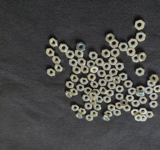nut: (135, 19, 146, 31), (137, 31, 147, 42), (119, 41, 129, 52), (129, 38, 139, 48), (150, 74, 160, 84), (136, 67, 145, 77), (102, 48, 111, 58), (110, 39, 119, 49), (49, 38, 58, 48), (77, 42, 86, 52), (66, 50, 76, 59), (89, 51, 99, 60), (72, 66, 82, 75), (149, 92, 159, 101), (144, 86, 154, 95), (108, 81, 117, 91), (87, 73, 97, 82), (115, 101, 125, 110), (80, 76, 89, 86), (116, 62, 125, 71), (127, 47, 136, 56), (60, 43, 69, 52), (46, 48, 55, 57), (75, 49, 84, 58), (77, 57, 86, 66), (81, 65, 90, 74), (112, 76, 121, 85), (145, 86, 154, 95), (78, 107, 87, 116), (99, 87, 108, 96), (70, 74, 79, 83), (138, 52, 146, 62), (149, 101, 159, 109), (107, 33, 115, 43), (109, 57, 119, 65), (119, 73, 129, 81), (96, 57, 104, 67), (97, 70, 107, 78), (115, 93, 125, 101), (111, 49, 120, 57), (132, 54, 140, 63), (47, 68, 55, 77), (54, 64, 63, 72), (53, 56, 62, 64), (66, 81, 75, 89), (69, 59, 78, 67), (109, 69, 118, 77), (103, 62, 111, 71), (87, 60, 96, 68), (90, 66, 99, 74), (105, 74, 113, 83), (147, 79, 156, 87), (137, 85, 145, 94), (139, 97, 148, 105), (139, 115, 148, 123), (132, 100, 141, 108), (116, 85, 125, 93), (99, 79, 108, 87), (90, 81, 99, 89), (115, 93, 124, 101), (113, 109, 122, 117), (71, 105, 80, 113), (93, 104, 102, 112), (103, 96, 112, 104), (89, 92, 98, 100), (76, 84, 85, 92), (70, 89, 79, 97), (104, 111, 114, 118), (106, 90, 116, 97), (135, 91, 146, 97), (146, 111, 154, 119), (124, 105, 132, 113), (120, 99, 128, 107), (75, 113, 83, 121), (128, 88, 137, 95), (131, 109, 140, 116), (126, 95, 135, 102), (107, 105, 116, 112), (96, 96, 103, 105), (82, 95, 91, 102), (84, 103, 93, 110), (86, 115, 94, 122), (125, 81, 133, 88), (135, 115, 143, 122), (140, 108, 148, 115), (103, 115, 111, 122), (90, 111, 98, 118), (93, 89, 101, 96), (65, 91, 72, 99), (85, 87, 92, 94), (154, 85, 160, 93), (91, 97, 96, 104)
